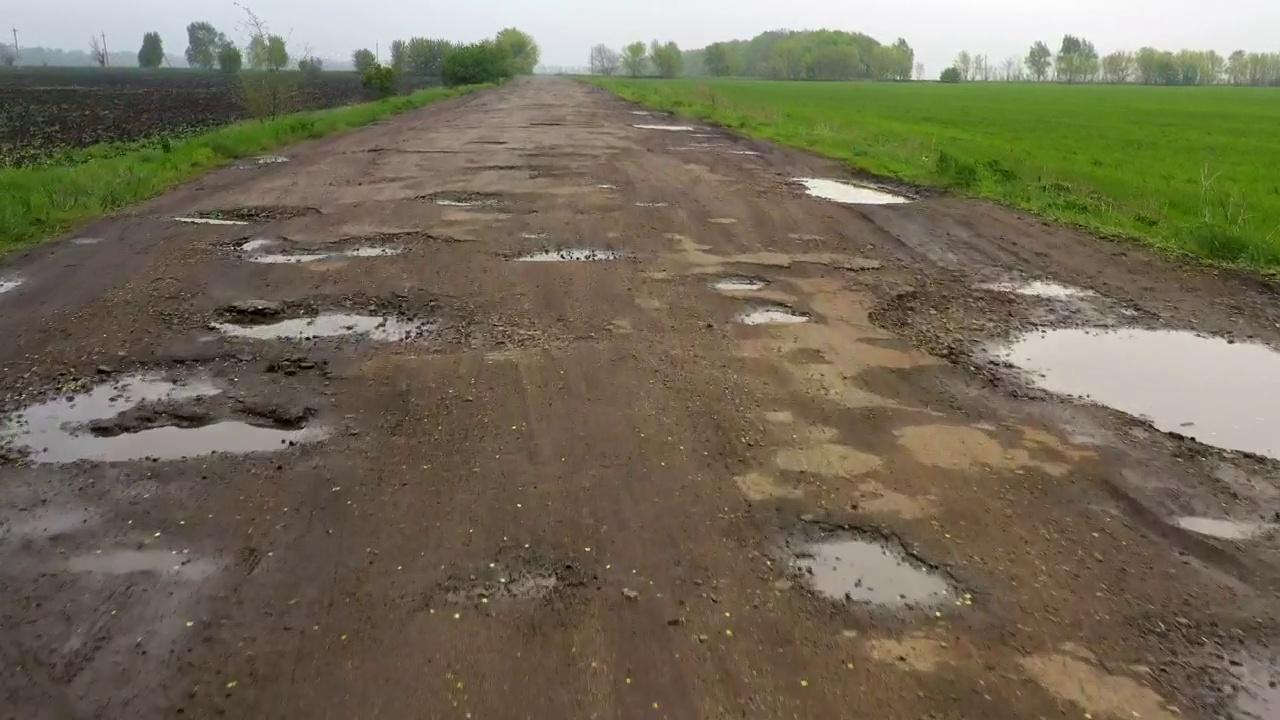bache: (995, 328, 1279, 459), (0, 374, 327, 463), (784, 531, 955, 608), (209, 295, 447, 341), (238, 231, 455, 263), (795, 178, 911, 204), (175, 205, 319, 224), (514, 246, 630, 261), (735, 303, 810, 324), (416, 191, 504, 207), (710, 276, 768, 291)
